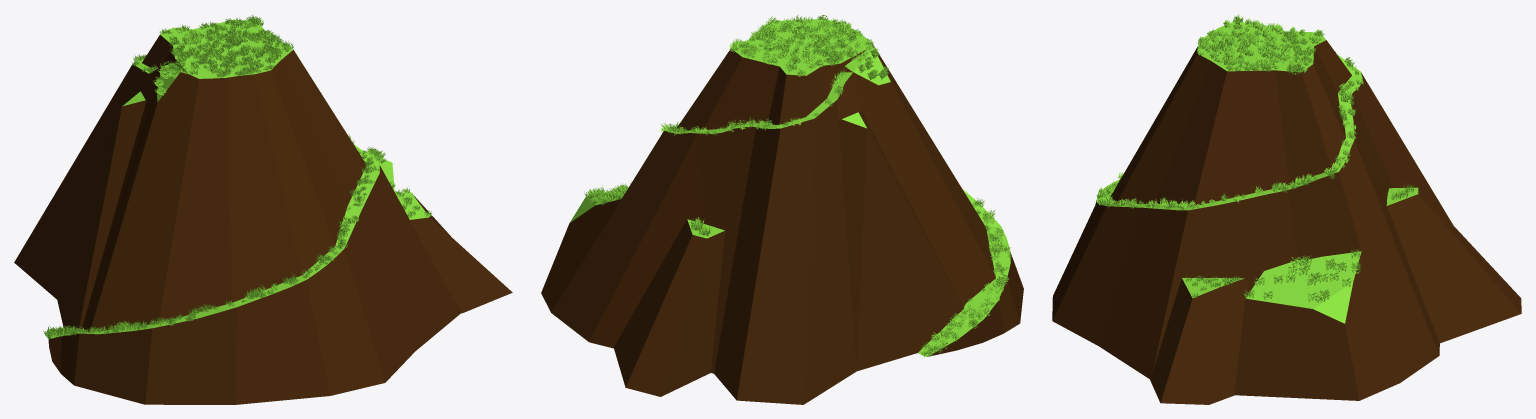
File: Mountain.fbx
3 renders of one model, left to right at view 1: azimuth 30°, elevation 25°; view 2: azimuth 150°, elevation 25°; view 3: azimuth 270°, elevation 25°, orthographic. The views are drawn at different scales.
Parts seen in each view (by area): view 1: MOUNTAIN TIME BBY; view 2: MOUNTAIN TIME BBY; view 3: MOUNTAIN TIME BBY.
Boxes of the visible parts, x1=… form: MOUNTAIN TIME BBY: x1=14, y1=20, x2=512, y2=404; MOUNTAIN TIME BBY: x1=541, y1=19, x2=1023, y2=404; MOUNTAIN TIME BBY: x1=1052, y1=20, x2=1521, y2=404.
Bounding box in the file's own units: 2.57 × 1.61 × 2.63.
